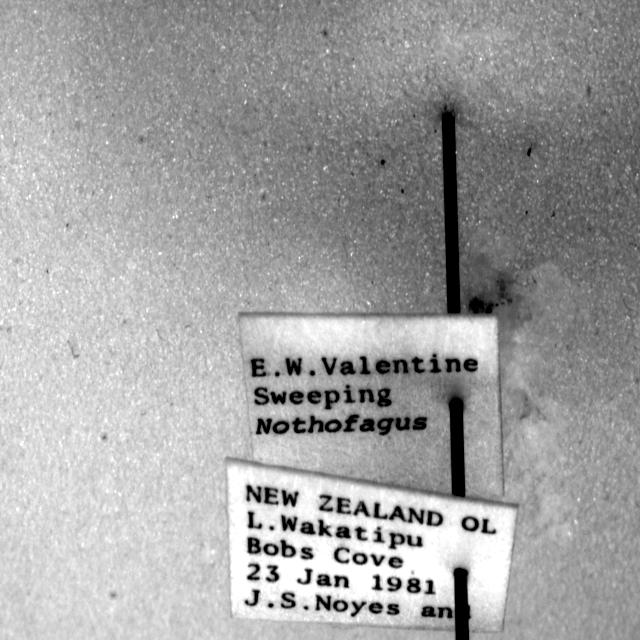typed_label: (226, 459, 518, 632), (239, 313, 504, 499)
